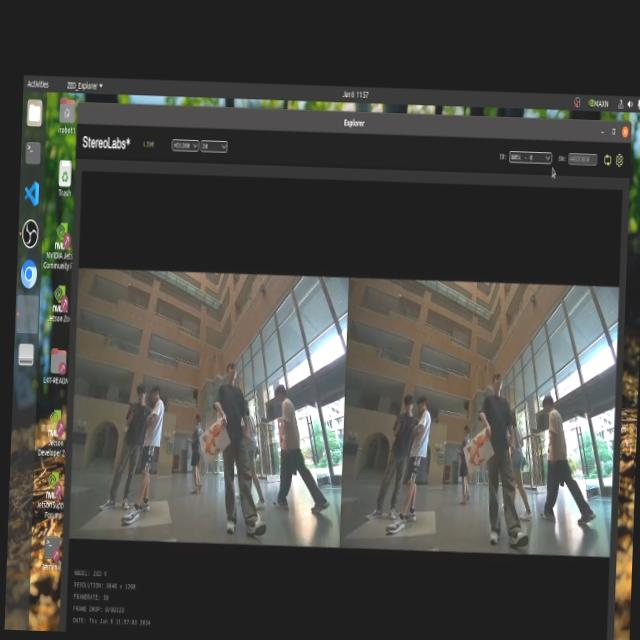red: (192, 411, 230, 457), (464, 424, 494, 474)
